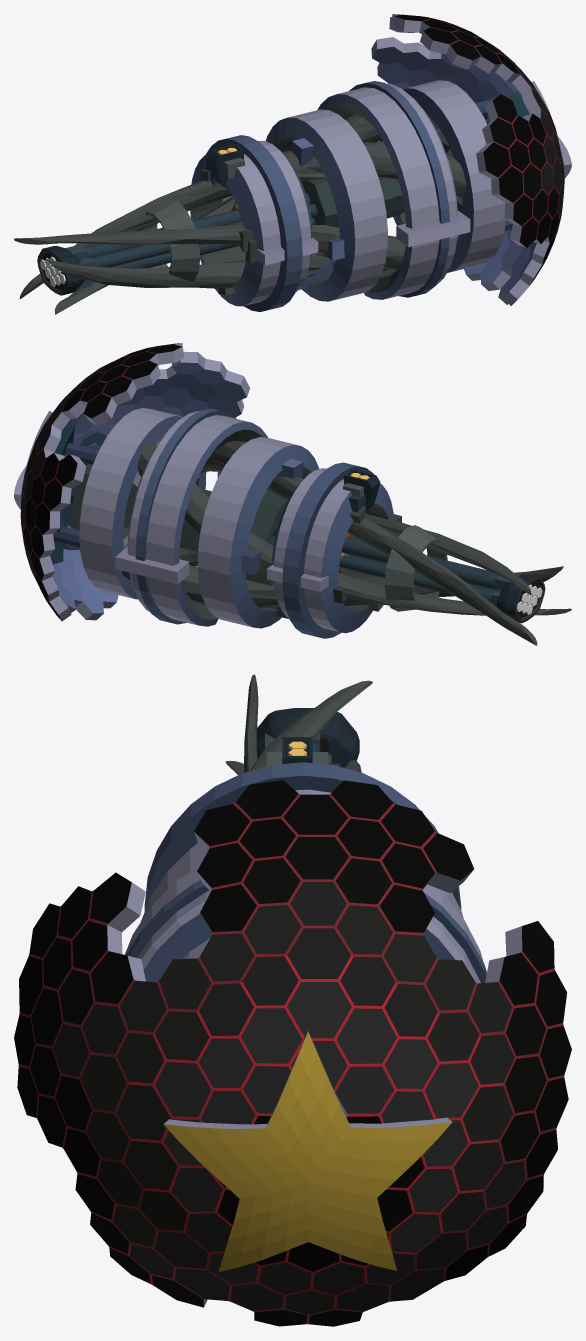
Rendered from spaceship.fbx.
The picture shows the model from 3 angles, top to bottom: view 1: azimuth 30°, elevation 25°; view 2: azimuth 150°, elevation 25°; view 3: azimuth 270°, elevation 25°; orthographic projection. The views are drawn at different scales.
Visible parts, largest first — view 1: Living_Area, Star_Shield, Star_Shield_Front, Engine_Frame, Engine_Propulsion, Engine_Thrusters; view 2: Living_Area, Star_Shield, Star_Shield_Front, Engine_Frame, Engine_Propulsion, Engine_Thrusters; view 3: Star_Shield_Front, Star_Shield, Living_Area, Engine_Propulsion.
Part boxes in pixels (<box>): Living_Area: <box>14,80,512,314</box>; Star_Shield: <box>371,14,571,305</box>; Star_Shield_Front: <box>395,14,564,284</box>; Engine_Frame: <box>83,131,462,268</box>; Engine_Propulsion: <box>37,244,95,295</box>; Engine_Thrusters: <box>40,256,65,286</box>; Living_Area: <box>53,408,571,645</box>; Star_Shield: <box>14,343,249,621</box>; Star_Shield_Front: <box>20,343,227,620</box>; Engine_Frame: <box>69,464,501,602</box>; Engine_Propulsion: <box>491,573,545,623</box>; Engine_Thrusters: <box>517,584,542,614</box>; Star_Shield_Front: <box>14,780,571,1326</box>; Star_Shield: <box>107,832,564,1324</box>; Living_Area: <box>124,674,486,983</box>; Engine_Propulsion: <box>256,708,359,767</box>.
Bounding box in the file's own units: 1.83 × 3.49 × 1.78.
1 material, 1 textured.
